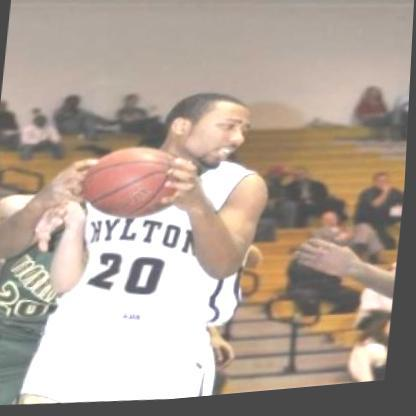basketball: (79, 138, 192, 233)
